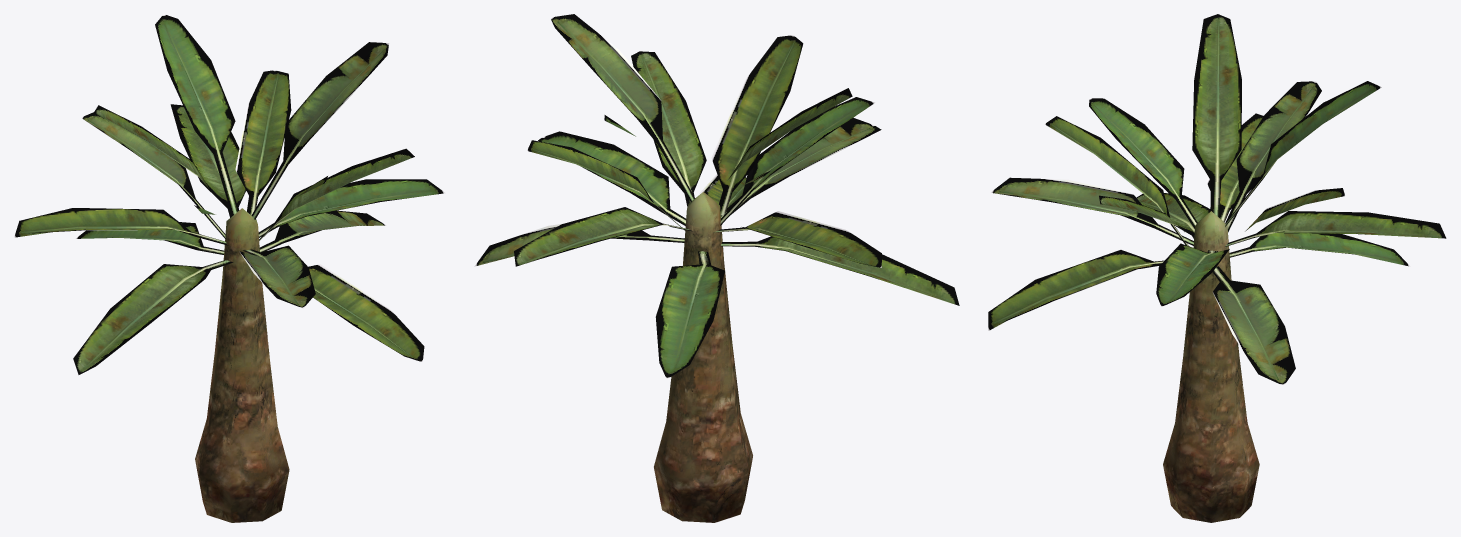
File: AlphaPalmSmall.gltf
3 renders of one model, left to right at view 1: azimuth 30°, elevation 25°; view 2: azimuth 150°, elevation 25°; view 3: azimuth 270°, elevation 25°, orthographic. The views are drawn at different scales.
Parts seen in each view (by area): view 1: Mesh08, Palm2_stamm; view 2: Mesh08, Palm2_stamm; view 3: Mesh08, Palm2_stamm.
Boxes of the visible parts, <box> form: Mesh08: <box>14,14,445,374</box>; Palm2_stamm: <box>195,208,289,522</box>; Mesh08: <box>474,14,959,379</box>; Palm2_stamm: <box>654,192,752,522</box>; Mesh08: <box>988,14,1446,385</box>; Palm2_stamm: <box>1163,211,1259,522</box>.
Bounding box in the file's own units: 6.27 × 6.66 × 6.54.
Materials: 2 (2 with a texture image).
